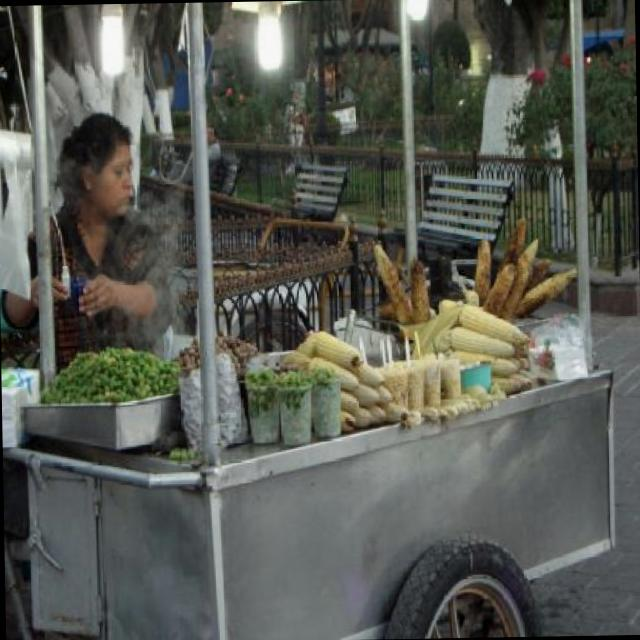Person: (22, 115, 180, 376), (170, 109, 218, 184), (278, 84, 304, 174)
